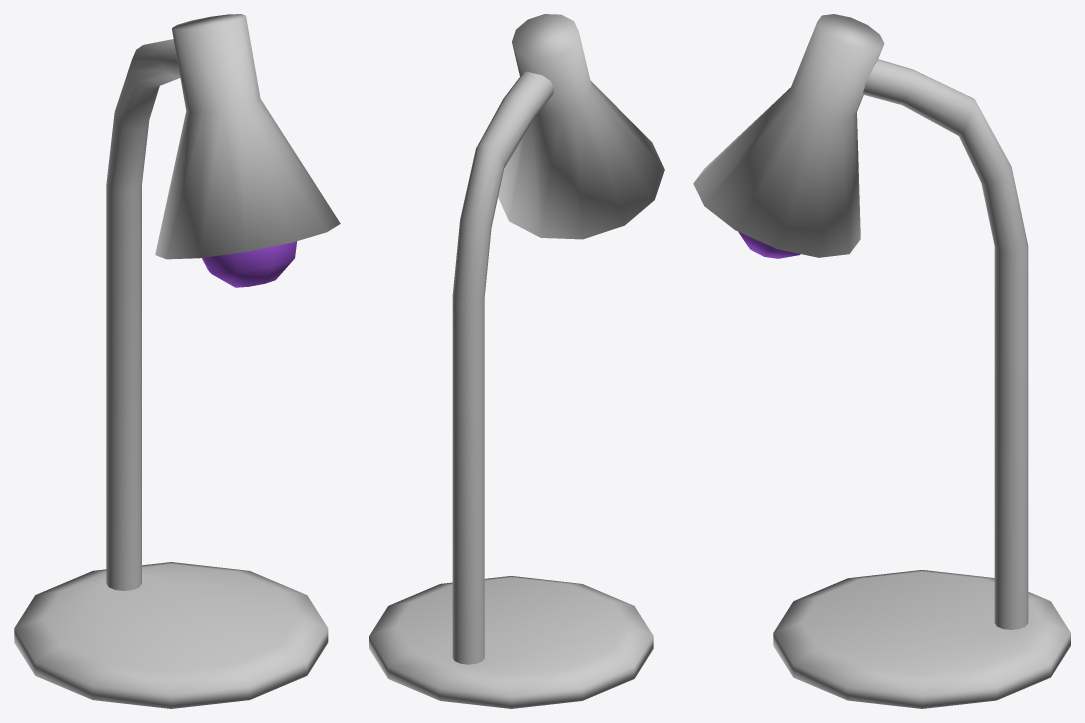
The model's file is lamp_wbulb.fbx.
The picture shows the model from 3 angles, left to right: view 1: azimuth 30°, elevation 25°; view 2: azimuth 150°, elevation 25°; view 3: azimuth 270°, elevation 25°; orthographic projection. The views are drawn at different scales.
Parts seen in each view (by area): view 1: Lamp_wBulb; view 2: Lamp_wBulb; view 3: Lamp_wBulb.
Part boxes in pixels (<box>): Lamp_wBulb: <box>14,14,340,708</box>; Lamp_wBulb: <box>369,14,664,708</box>; Lamp_wBulb: <box>693,14,1070,708</box>.
Size of the model in its own units: 32 by 74.16 by 40.64.
